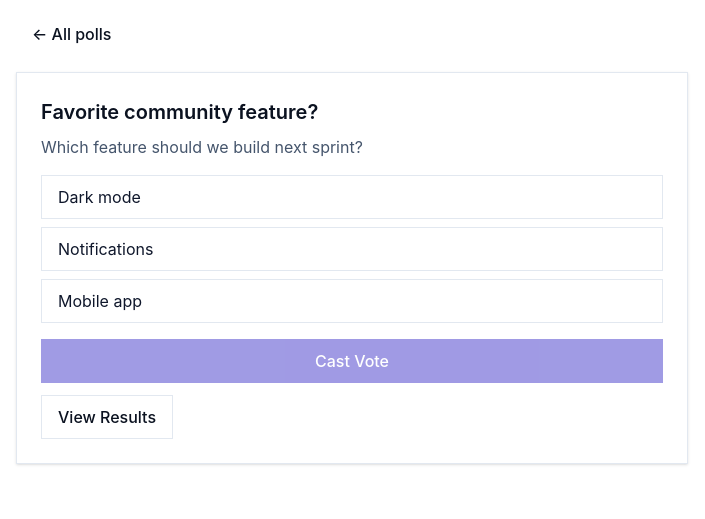
Test case: PollDetailPage › renders the poll and casts a vote (happy path with optimistic selection + invalidation)
The width and height of the screenshot is (705, 519).
Click the radio button labelled "Dark mode".
click(99, 197)  # box [41,175,663,219]
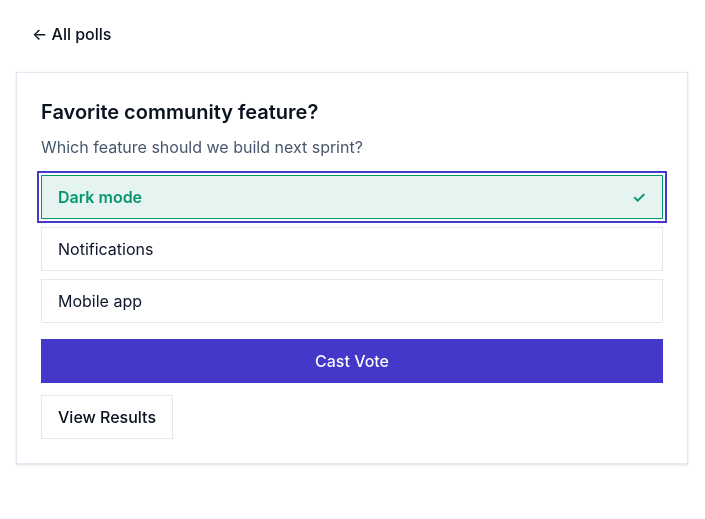
Result: the radio button labelled "Dark mode ✓" is checked at [41,175,663,219]
Click the button "Cast Vote".
click(352, 361)  # box [41,339,663,383]
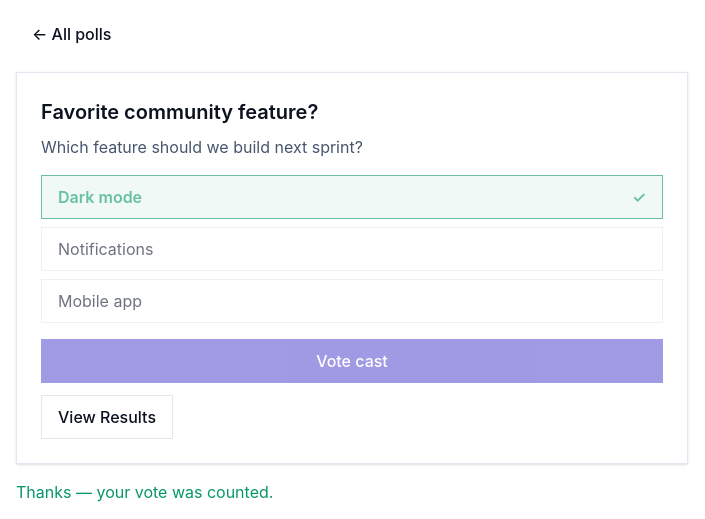
Result: the message "Thanks — your vote was counted." is shown at [16,482,273,502]
